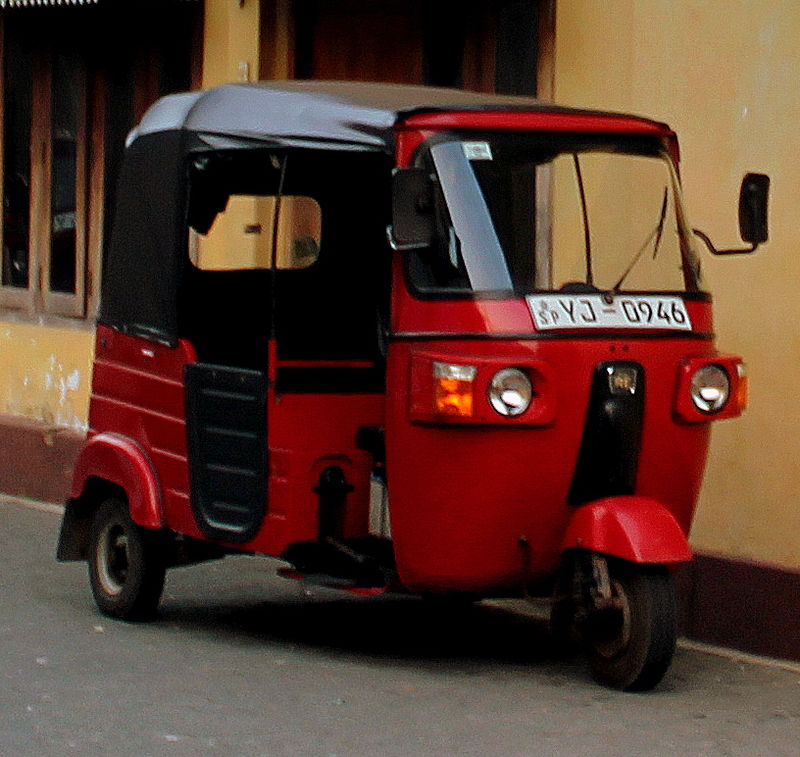rickshaw: (52, 67, 774, 701)
